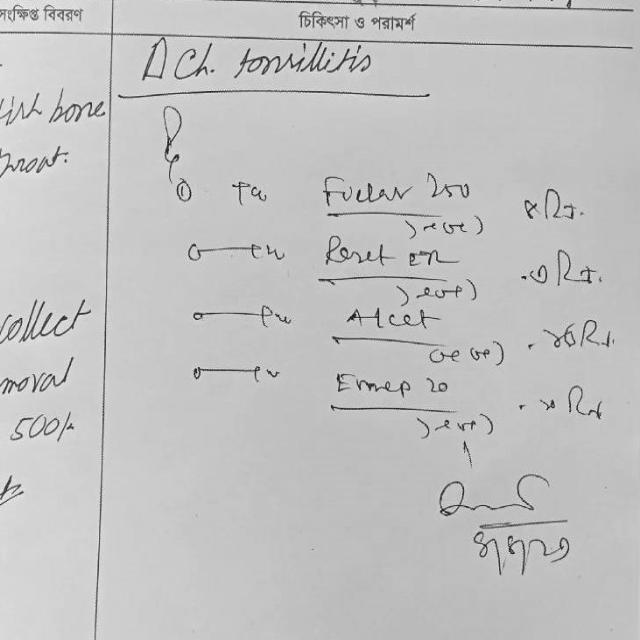medicine: (318, 168, 417, 212), (318, 231, 402, 275), (343, 300, 439, 338), (328, 363, 416, 402)
